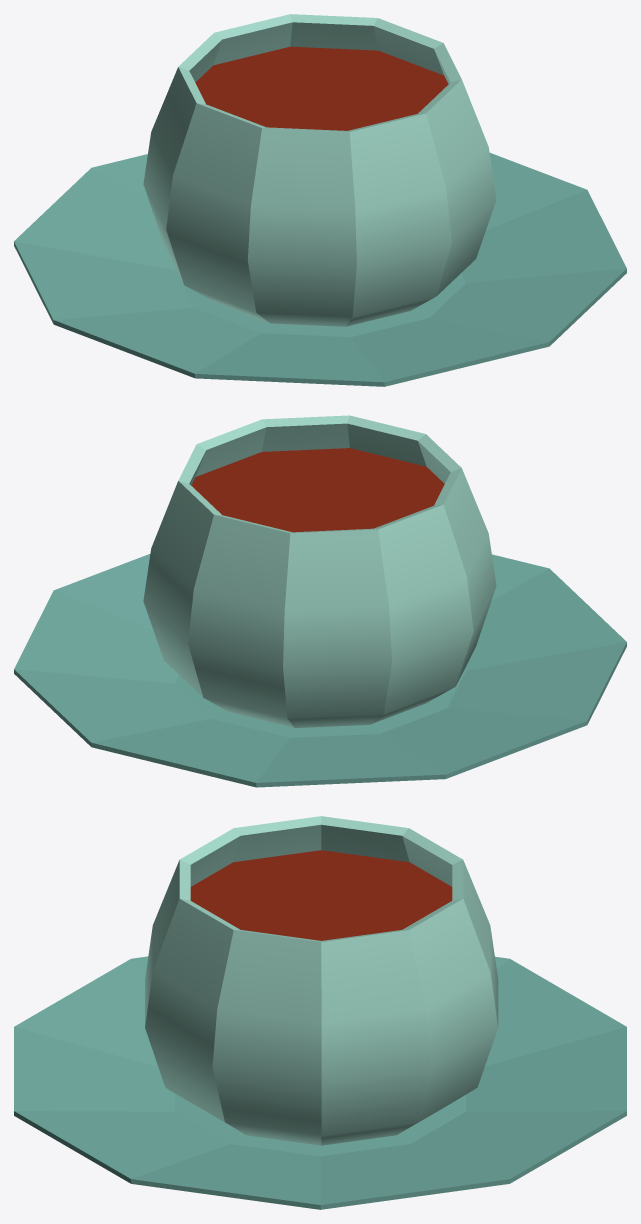
File: PW_tea_cup01.fbx
3 views of the same model, one above another, from view 1: azimuth 30°, elevation 25°; view 2: azimuth 150°, elevation 25°; view 3: azimuth 270°, elevation 25° (orthographic). The views are drawn at different scales.
Parts seen in each view (by area): view 1: cup, plate, coffee; view 2: cup, plate, coffee; view 3: cup, plate, coffee.
Boxes of the visible parts, x1,y1,x2,y2 form: cup: (143,14,496,326); plate: (14,153,626,386); coffee: (195,46,448,130); cup: (143,415,496,727); plate: (14,554,626,787); coffee: (191,448,444,532); cup: (145,816,498,1145); plate: (14,956,626,1209); coffee: (190,850,452,940).
Bounding box in the file's own units: 39.98 × 14.87 × 38.02.
Materials: 1 (1 with a texture image).
